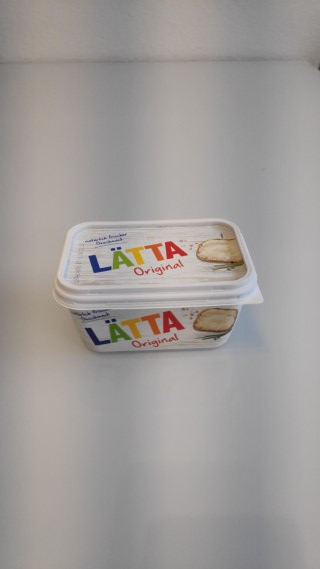laetta: (51, 216, 265, 354)
